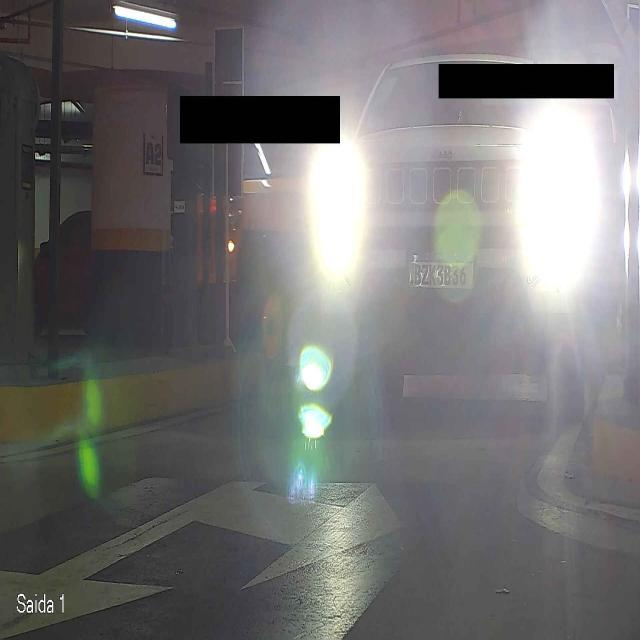mercosul_plate: (403, 246, 478, 291)
